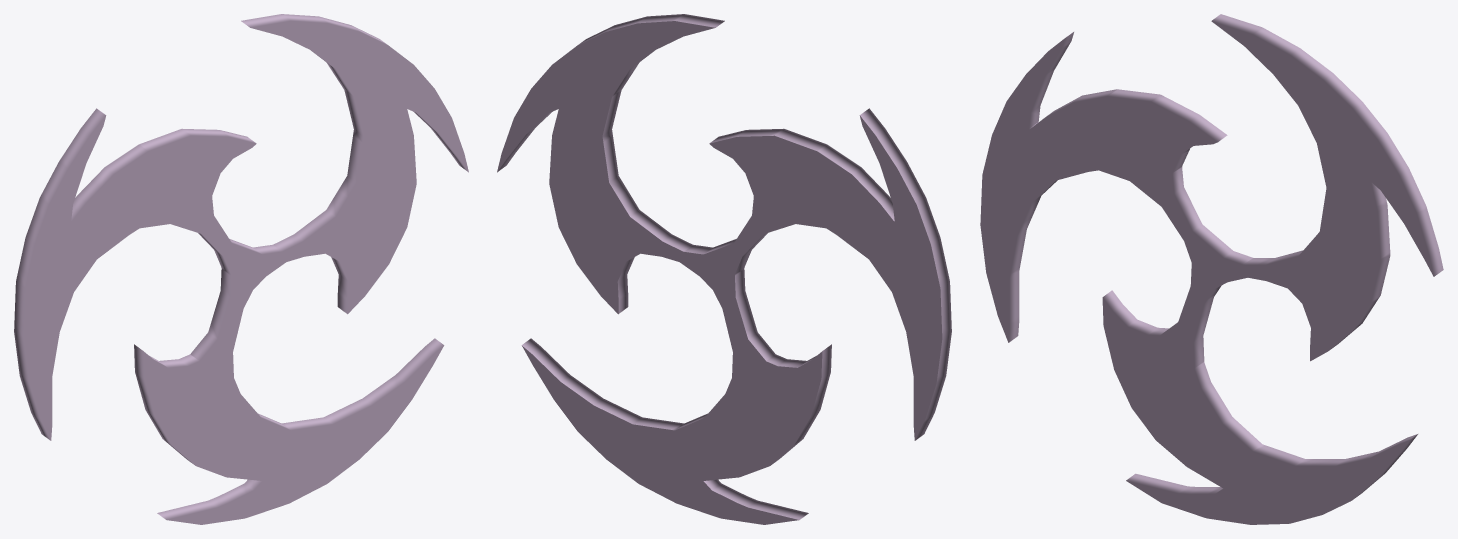
The model's file is electrosymbol.fbx.
The picture shows the model from 3 angles, left to right: view 1: azimuth 30°, elevation 25°; view 2: azimuth 150°, elevation 25°; view 3: azimuth 330°, elevation 25°; orthographic projection.
Parts seen in each view (by area): view 1: electrosymbol; view 2: electrosymbol; view 3: electrosymbol.
Boxes of the visible parts, x1,y1,x2,y2 form: electrosymbol: (14,14,468,524); electrosymbol: (497,14,951,524); electrosymbol: (980,14,1443,524).
Bounding box in the file's own units: 7.36 × 7.73 × 0.2737.
